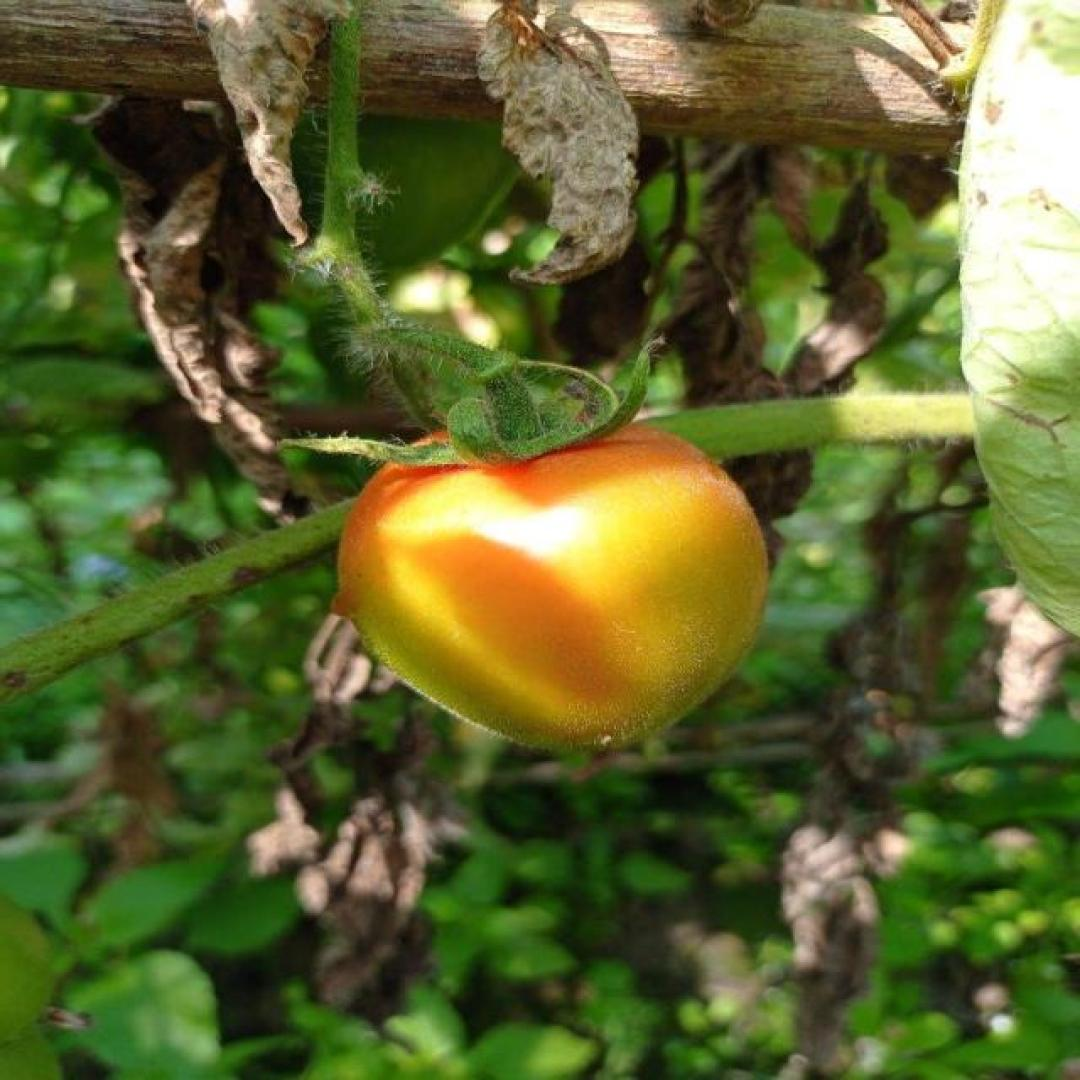setengah_matang: (332, 412, 768, 754)
